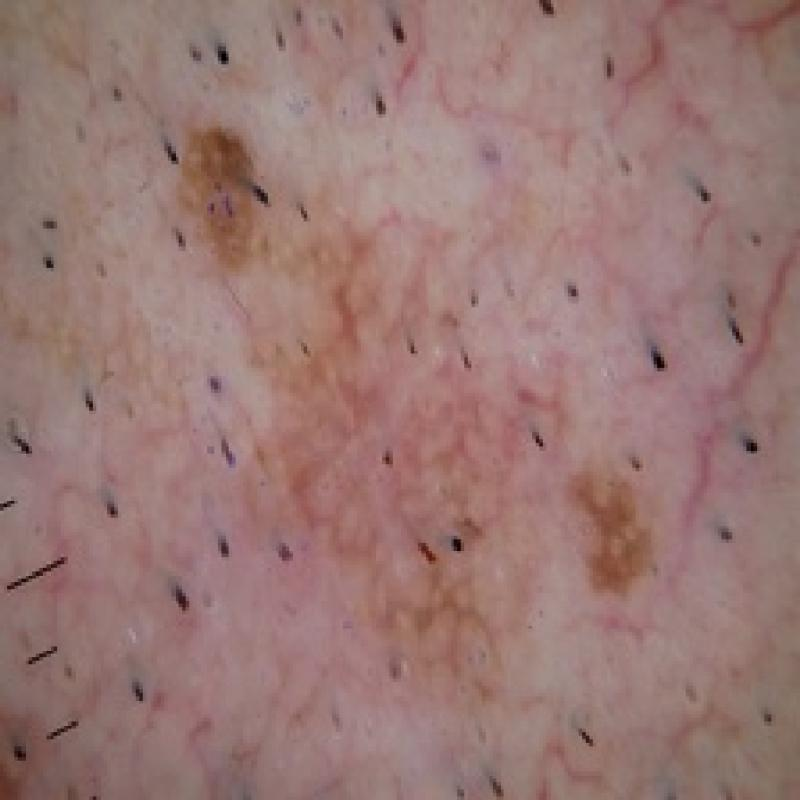malignant: (116, 110, 294, 303)
